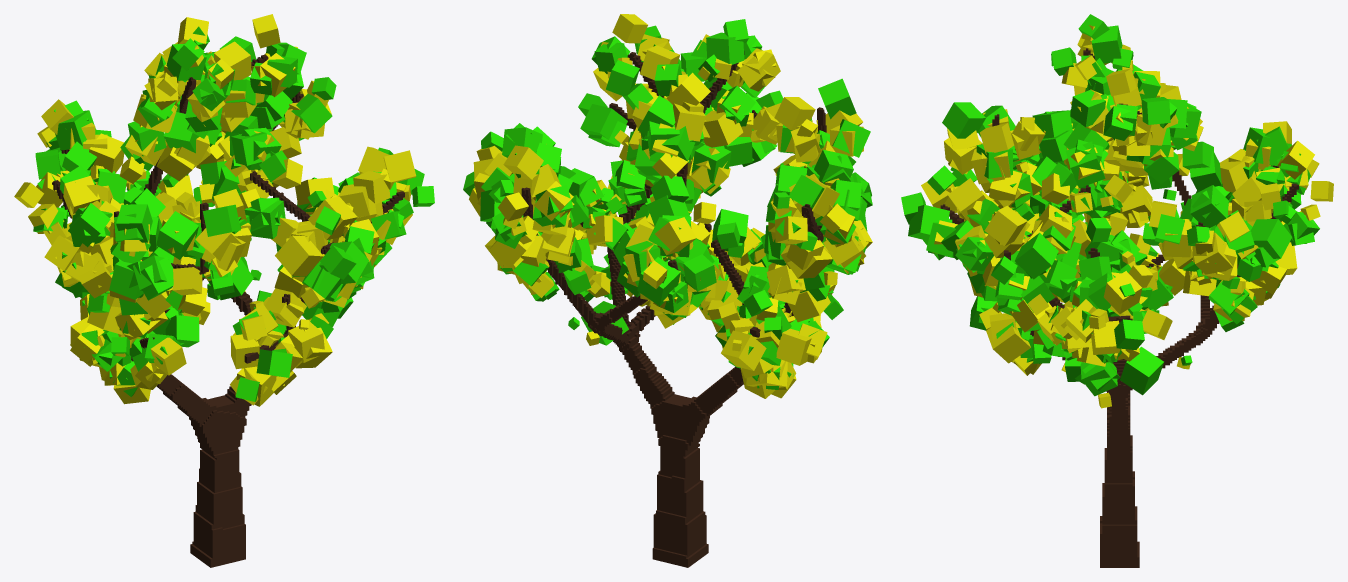
Rendered from воксель дуб.dae.
3 views of the same model, side by side, from view 1: azimuth 30°, elevation 25°; view 2: azimuth 150°, elevation 25°; view 3: azimuth 270°, elevation 25° (orthographic). The views are drawn at different scales.
Parts seen in each view (by area): view 1: Куб.591, Плоскость; view 2: Куб.591, Плоскость; view 3: Куб.591, Плоскость.
Boxes of the visible parts, x1,y1,x2,y2 form: Куб.591: (14, 14, 434, 406); Плоскость: (52, 54, 404, 567); Куб.591: (463, 14, 872, 398); Плоскость: (521, 51, 826, 567); Куб.591: (901, 14, 1333, 408); Плоскость: (940, 48, 1298, 567).
Size of the model in its own units: 9.54 by 9.32 by 12.4.
